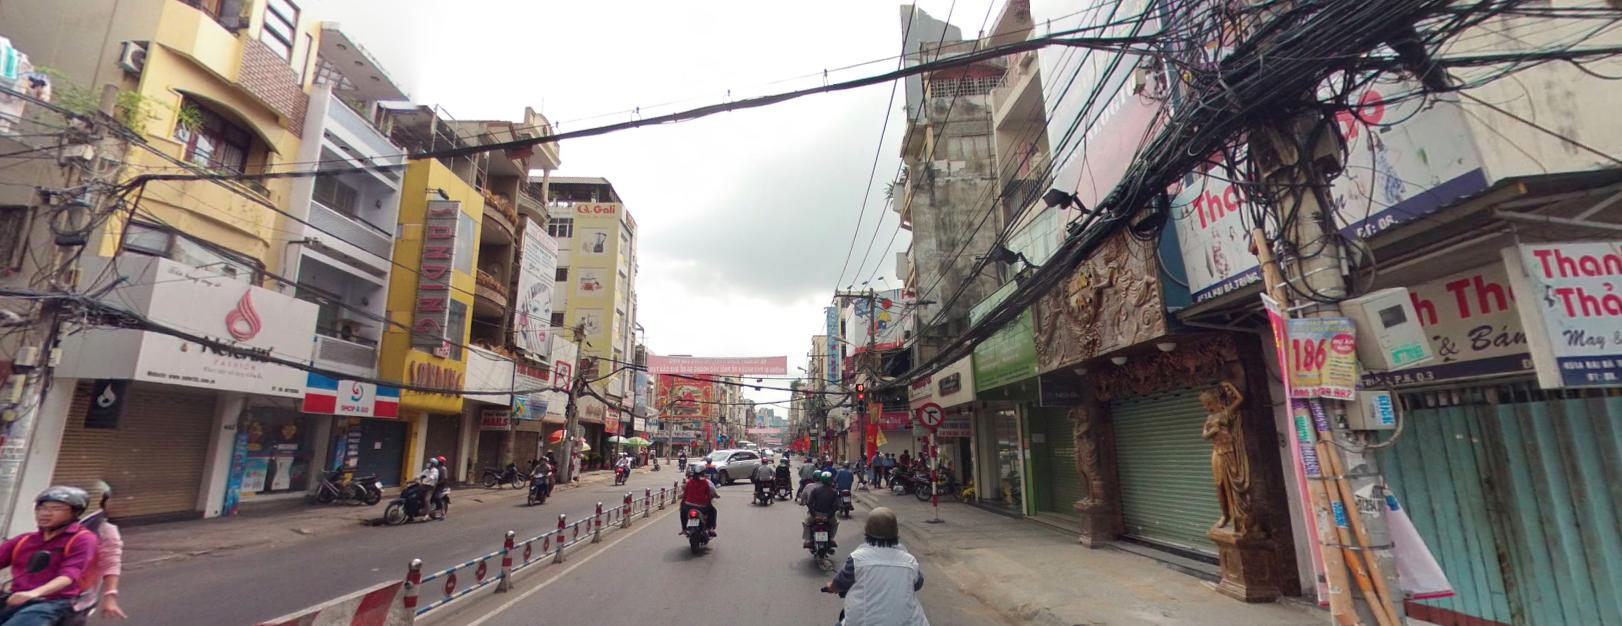Cam dung va do: (827, 427, 834, 434)
Cam re: (919, 401, 944, 425)
